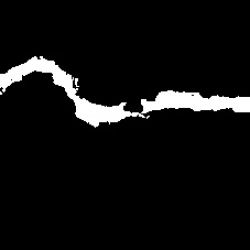crack: (1, 57, 247, 128)
